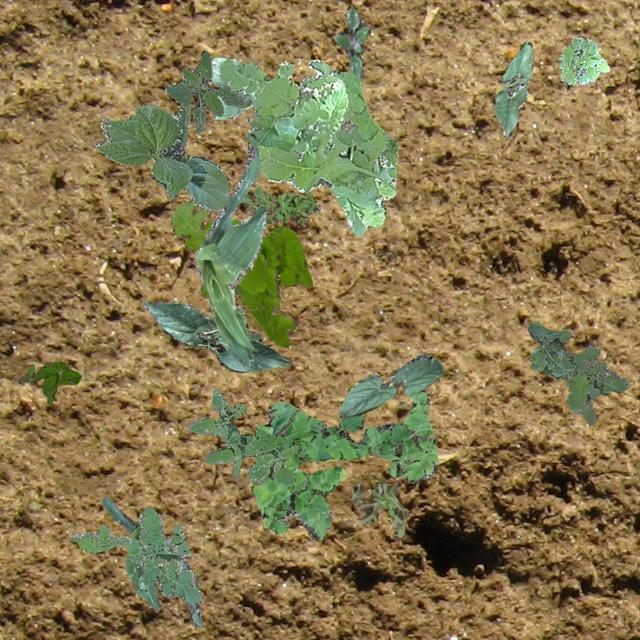crop: (192, 133, 266, 364), (94, 102, 228, 210), (102, 496, 202, 626), (142, 299, 290, 372), (338, 352, 442, 418), (492, 40, 532, 136), (208, 55, 252, 118)
weed: (252, 386, 438, 540), (256, 68, 396, 235), (170, 198, 312, 346), (217, 57, 347, 166), (68, 506, 202, 602), (186, 388, 296, 486), (526, 321, 626, 424), (164, 48, 245, 134), (240, 186, 320, 227), (350, 481, 408, 536), (17, 360, 80, 402), (334, 5, 368, 78), (558, 36, 608, 84)
